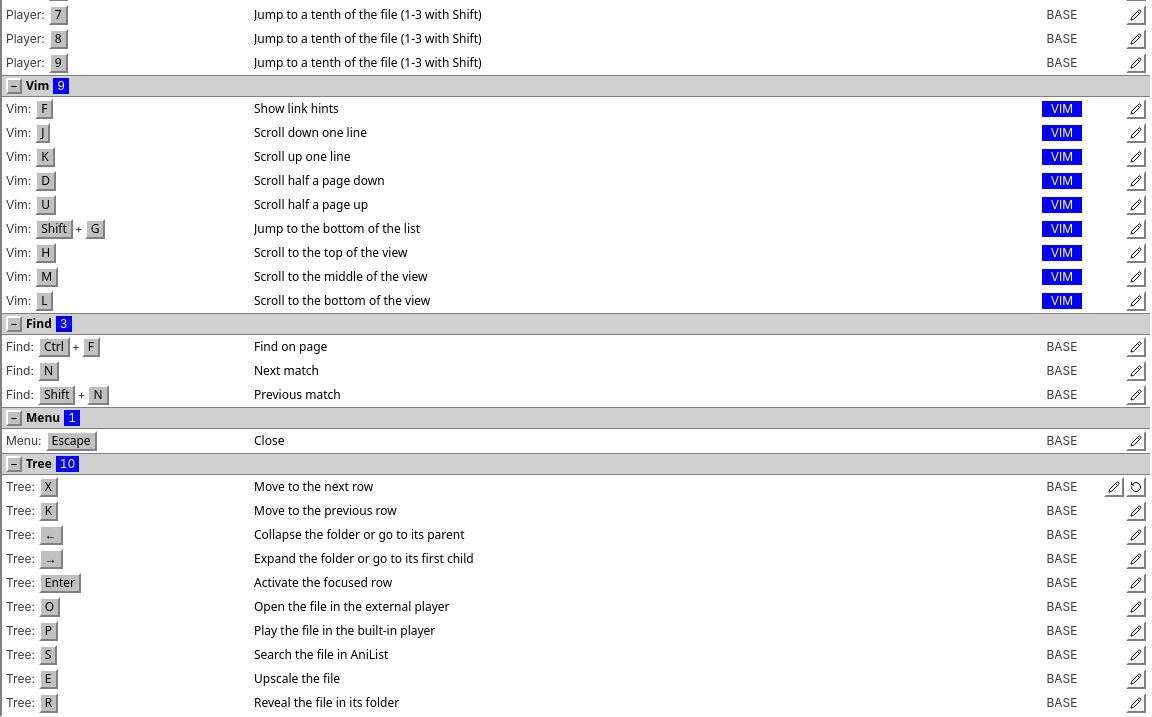
SettingsKeybinds editor › resets the row from the modal footer
(page scrolled)
Click the button named "edit tree.move.down": (1114, 487) [1104,477,1124,497]
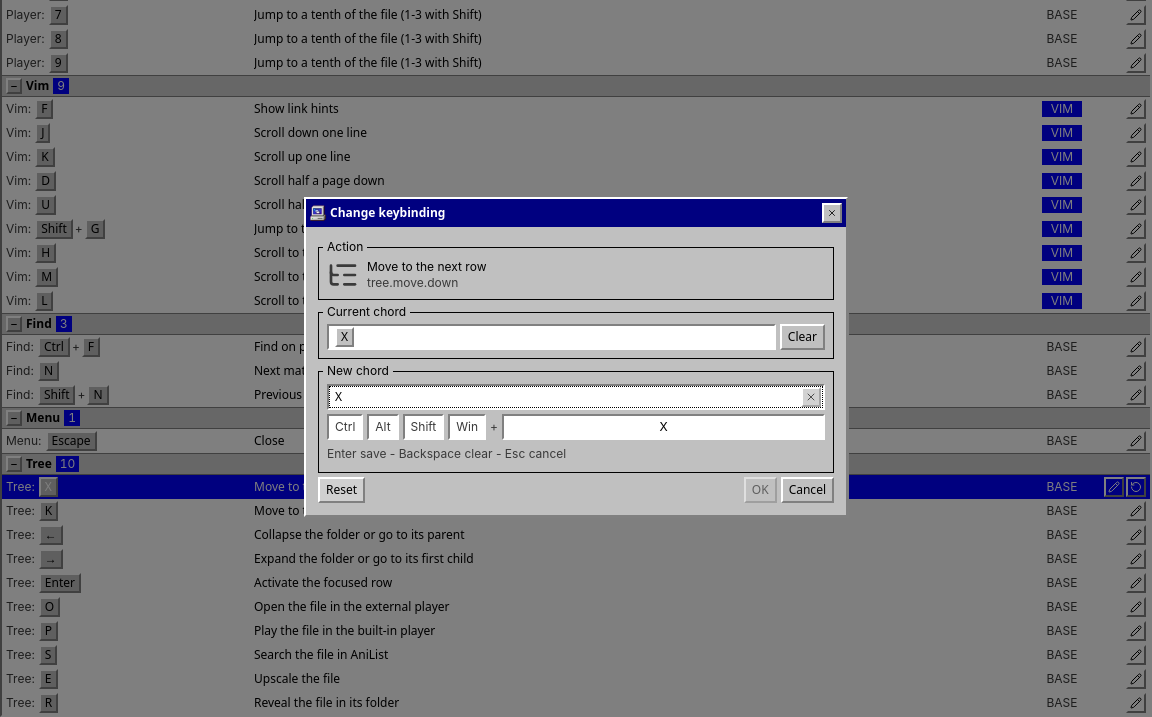
Click the button "Reset": (342, 490) [318,477,365,503]
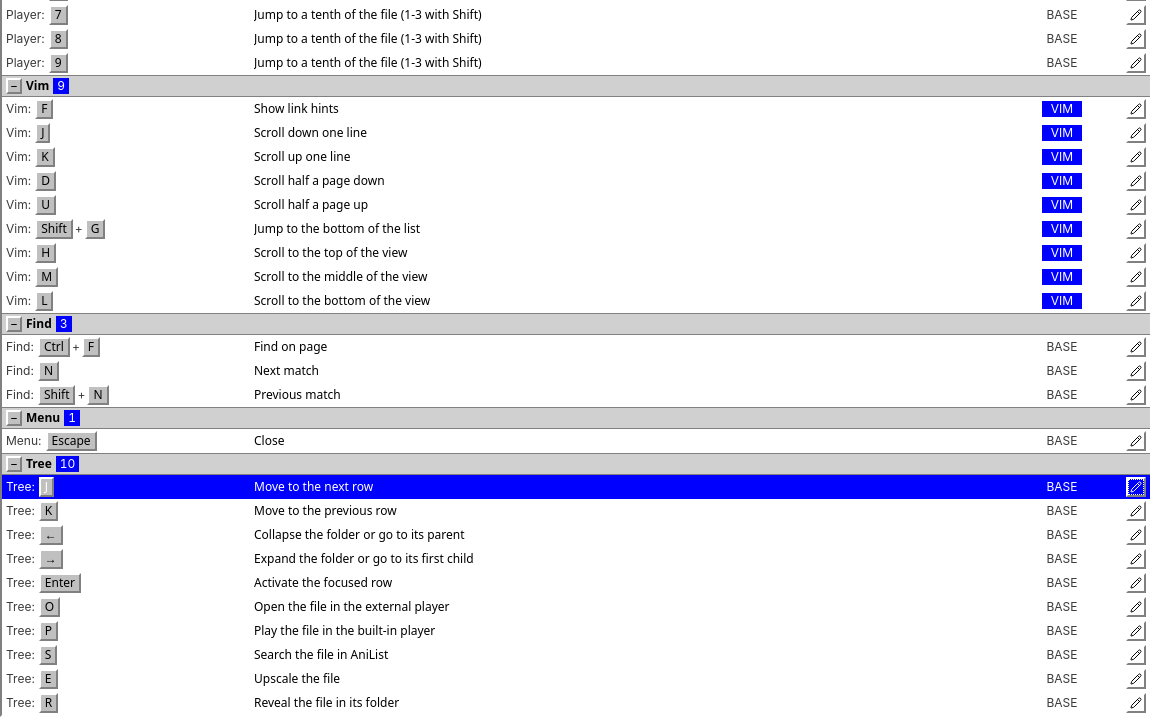
Now the dialog is gone
